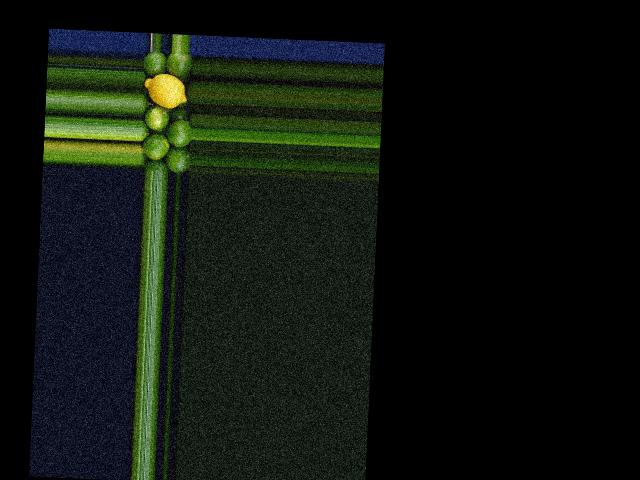lemon: (144, 72, 188, 110)
